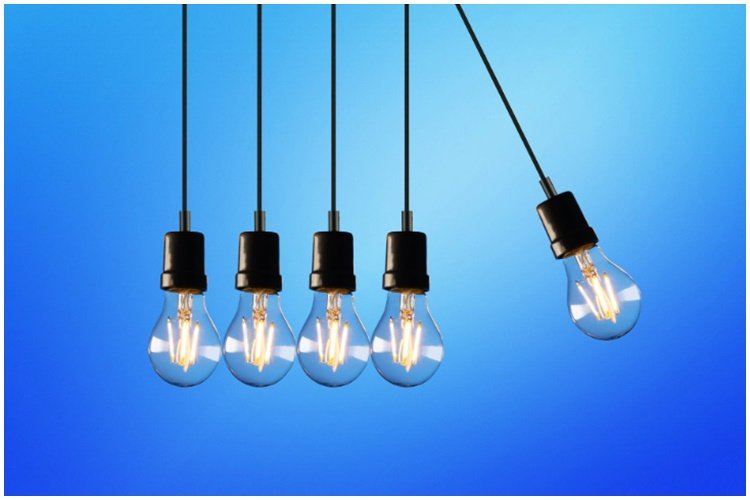Light_bulb: (534, 191, 646, 347), (359, 264, 459, 405), (292, 282, 375, 389), (142, 287, 223, 391), (221, 286, 299, 387)
